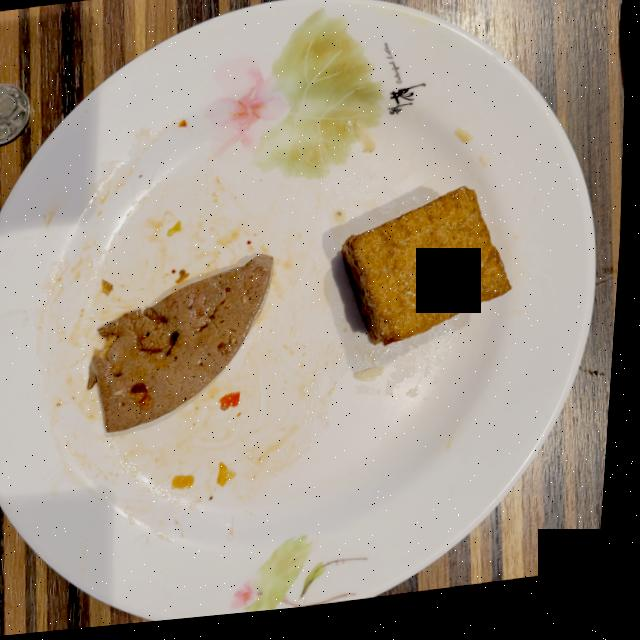coin: (0, 83, 30, 145)
egg tofu: (344, 196, 515, 354)
pig liver: (92, 259, 276, 435)
